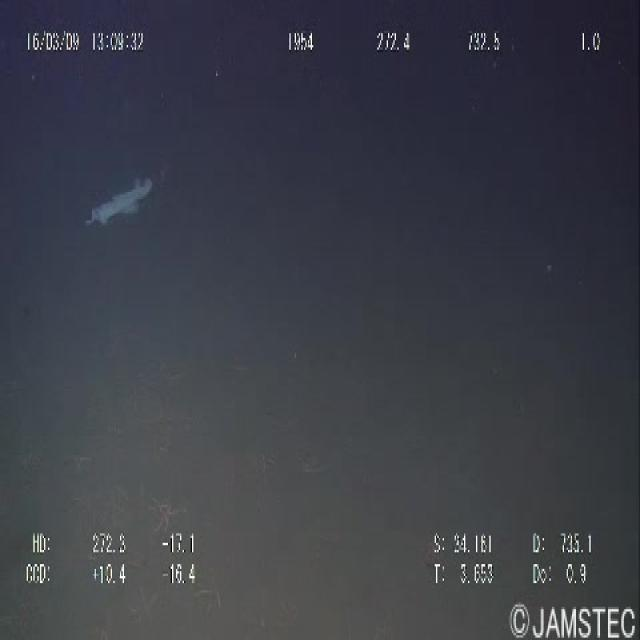plastic: (79, 161, 160, 235)
